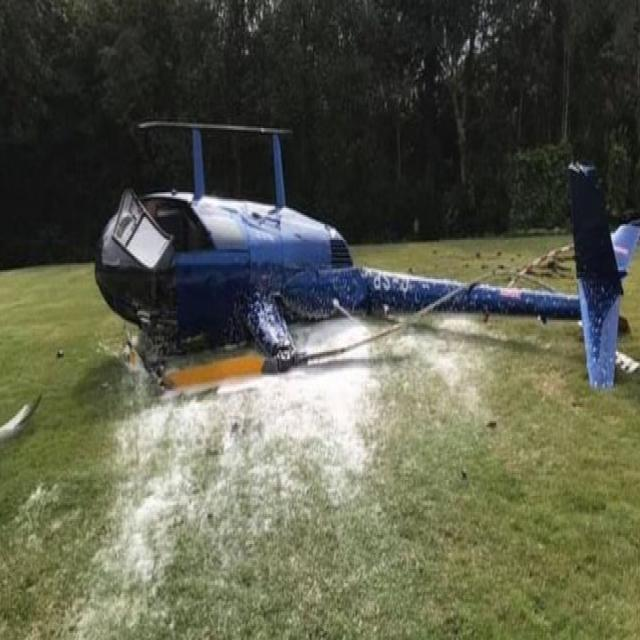helicopter: (56, 99, 640, 422)
